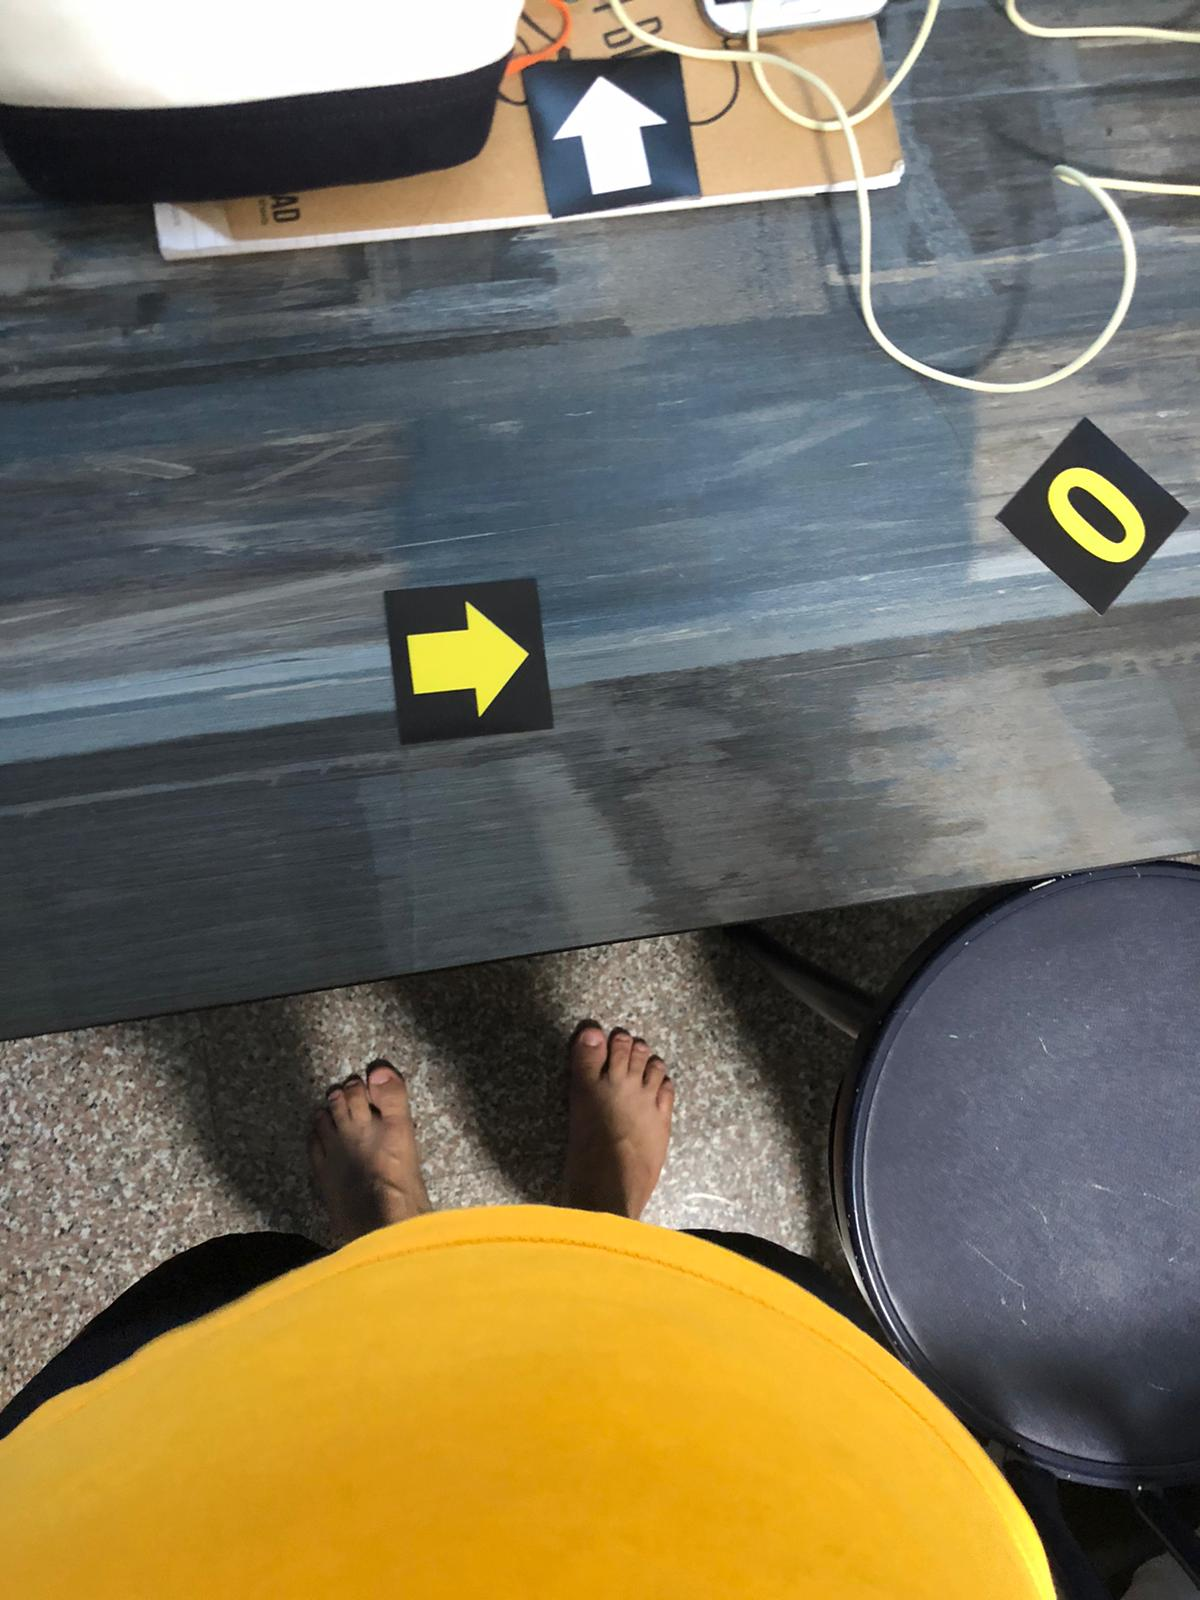Right Arrow: (384, 598, 553, 729)
